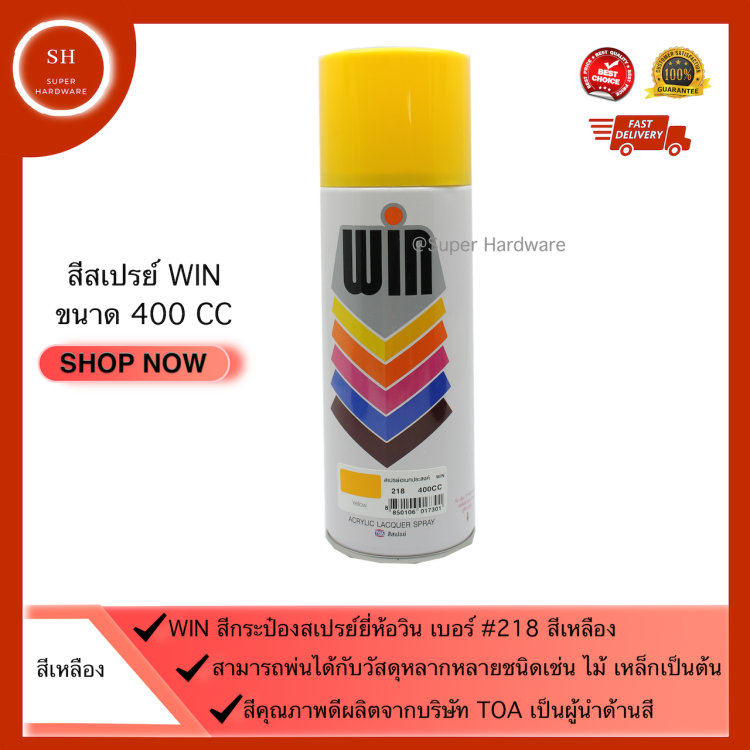Aerosol_cans: (314, 44, 478, 568)
